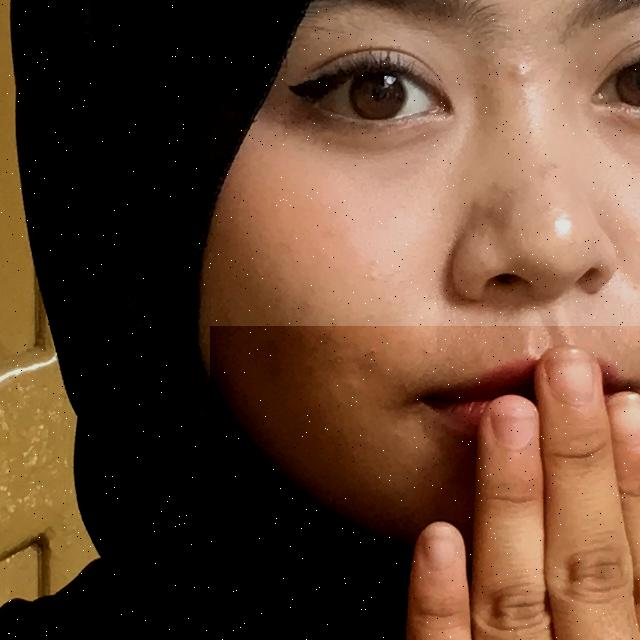ganteng: (210, 326, 640, 640)
